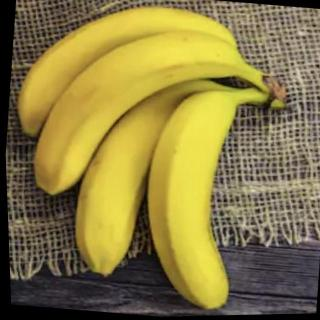banana: (23, 15, 279, 220), (61, 66, 269, 297), (7, 0, 279, 166), (129, 77, 271, 318)
